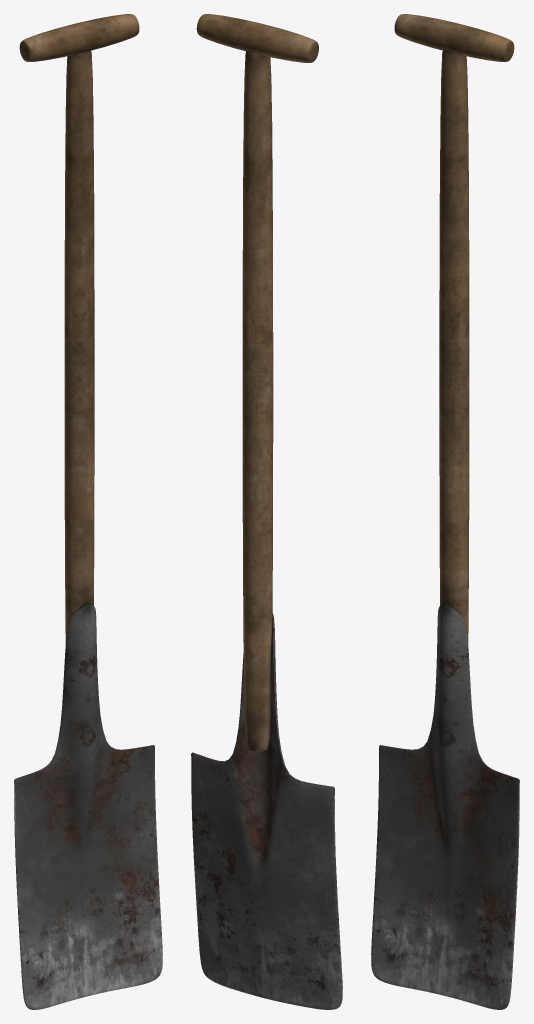
File: rusted_spade_01.glb
3 renders of one model, left to right at view 1: azimuth 30°, elevation 25°; view 2: azimuth 150°, elevation 25°; view 3: azimuth 330°, elevation 25°, orthographic. The views are drawn at different scales.
Visible parts, largest first — view 1: rusted_spade_01; view 2: rusted_spade_01; view 3: rusted_spade_01.
Boxes of the visible parts, x1=… form: rusted_spade_01: x1=14, y1=14, x2=162, y2=1009; rusted_spade_01: x1=191, y1=14, x2=342, y2=1009; rusted_spade_01: x1=371, y1=14, x2=519, y2=1009.
Size of the model in its own units: 0.1681 by 1.1 by 0.0456.
Materials: 1 (1 with a texture image).
